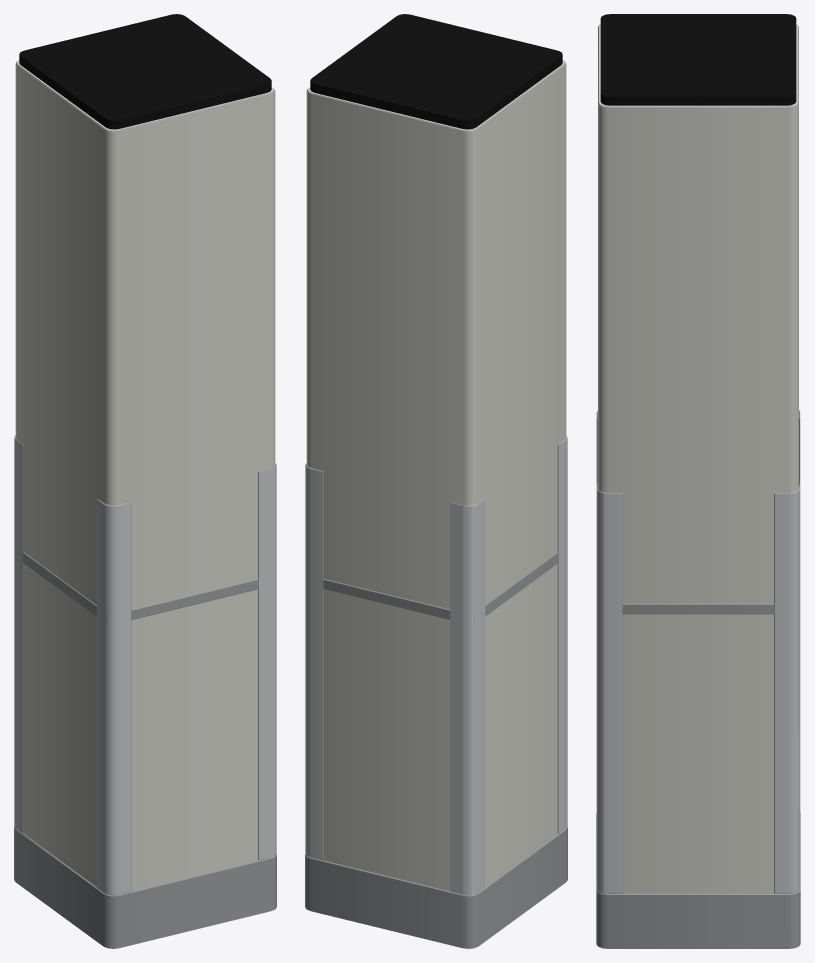
Rendered from gteki_column_square_600.glb.
3 views of the same model, side by side, from view 1: azimuth 30°, elevation 25°; view 2: azimuth 150°, elevation 25°; view 3: azimuth 270°, elevation 25° (orthographic). The views are drawn at different scales.
Parts seen in each view (by area): view 1: VIS_body; view 2: VIS_body; view 3: VIS_body.
Boxes of the visible parts, box(x1,y1,x2,y2) form: VIS_body: box(14, 14, 276, 948); VIS_body: box(305, 14, 567, 948); VIS_body: box(596, 14, 800, 948).
Size of what is drawn, in the model's own units: 0.61 by 2.8 by 0.61.
1 material, 1 textured.
